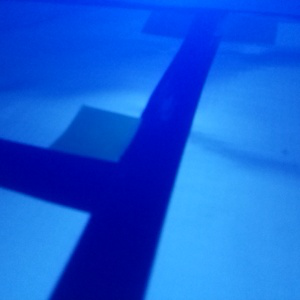bottom_left: (142, 3, 221, 38)
bottom_right: (198, 7, 277, 45)
top_left: (47, 105, 171, 203)
